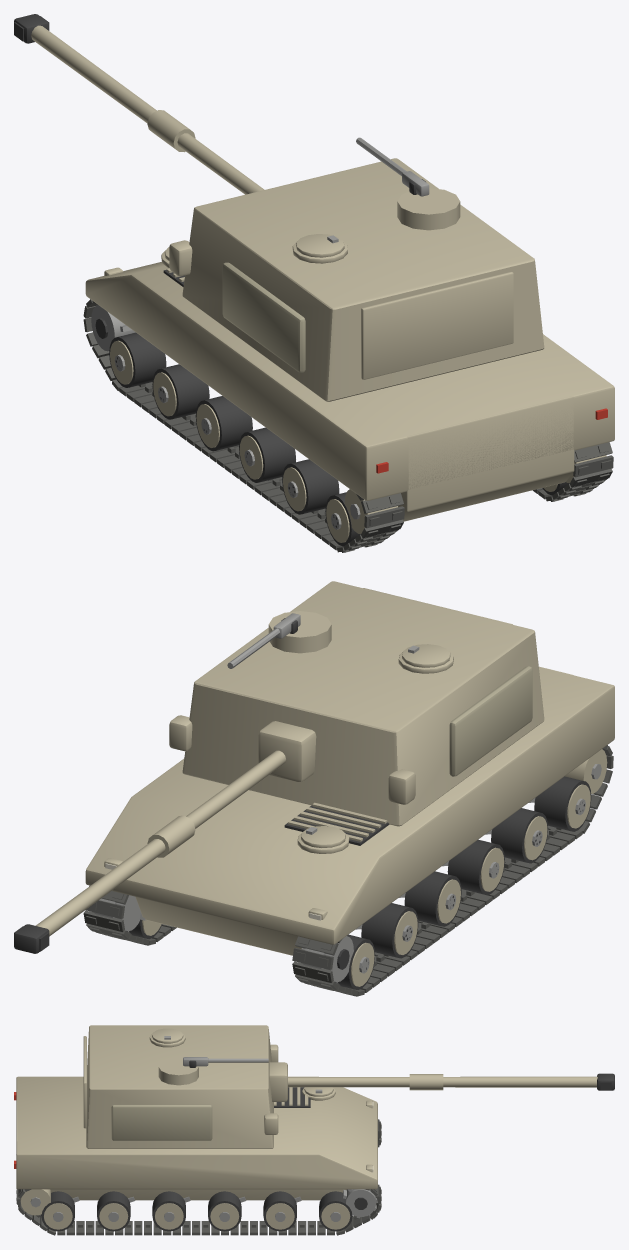
File: usa_spg_a7.glb
3 renders of one model, top to bottom at view 1: azimuth 30°, elevation 25°; view 2: azimuth 150°, elevation 25°; view 3: azimuth 270°, elevation 25°, orthographic. The views are drawn at different scales.
Parts seen in each view (by area): view 1: body, turret, barrel; view 2: body, turret, barrel; view 3: body, turret, barrel.
Boxes of the visible parts, x1,y1,x2,y2 form: body: (83,247,614,552); turret: (169,137,544,401); barrel: (14,14,264,194); body: (83,666,614,996); turret: (169,581,544,826); barrel: (14,721,316,953); body: (14,1076,381,1235); turret: (83,1025,278,1148); barrel: (269,1062,614,1101).
Size of the model in its own units: 3.3 by 3.14 by 10.72.
